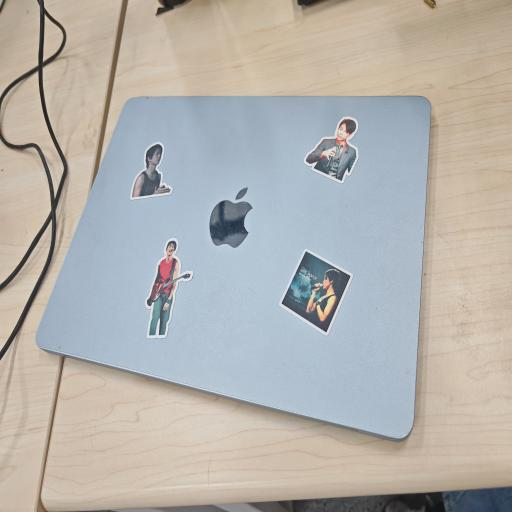laptop: (36, 96, 432, 442)
